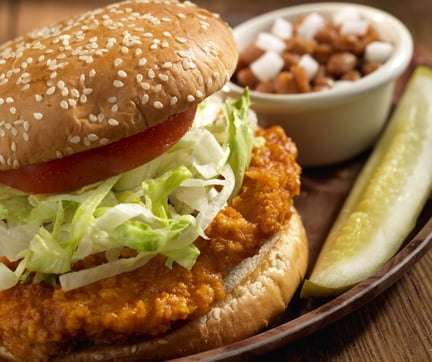pasta: (300, 62, 432, 301)
soup: (0, 8, 308, 353), (1, 0, 241, 197)
sushi: (232, 3, 414, 169)
